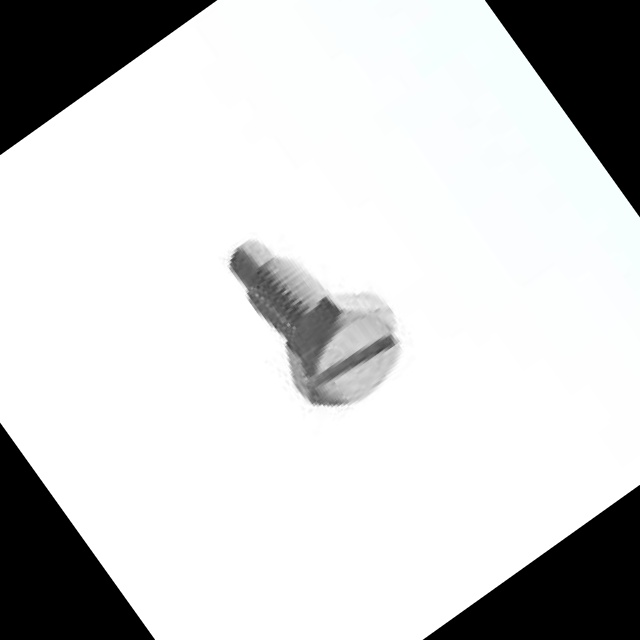duz: (260, 270, 426, 432)
